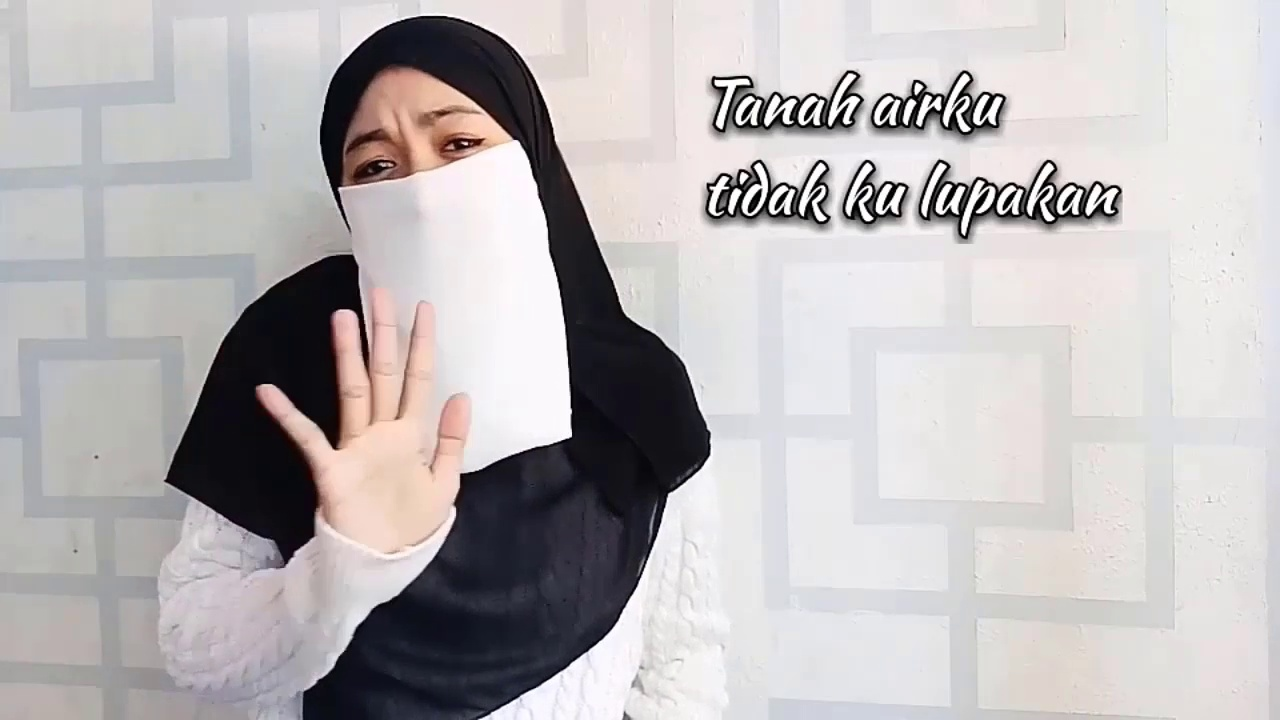TIDAK: (162, 277, 527, 720), (154, 319, 159, 322)
